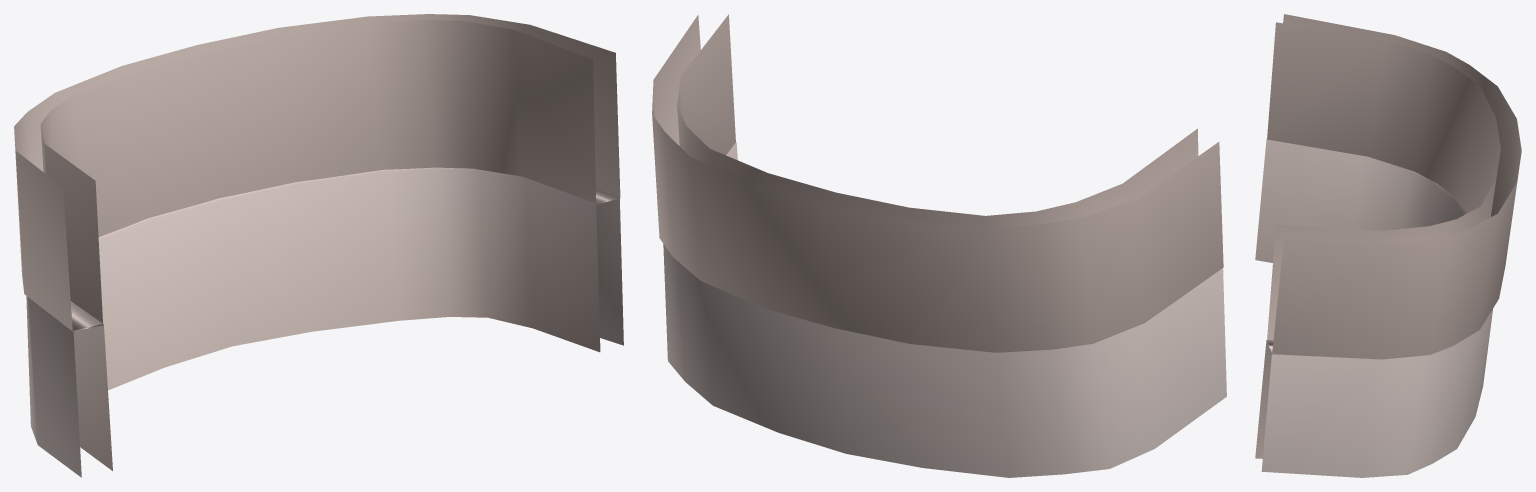
The model's file is sit_test.006.obj.
3 views of the same model, side by side, from view 1: azimuth 30°, elevation 25°; view 2: azimuth 150°, elevation 25°; view 3: azimuth 270°, elevation 25° (orthographic). The views are drawn at different scales.
Visible parts, largest first — view 1: sit_test.006_sit_test.039; view 2: sit_test.006_sit_test.039; view 3: sit_test.006_sit_test.039.
Part boxes in pixels (left/top/right/bottom): sit_test.006_sit_test.039: left=14, top=14, right=623, bottom=477; sit_test.006_sit_test.039: left=652, top=14, right=1226, bottom=477; sit_test.006_sit_test.039: left=1255, top=14, right=1521, bottom=477.
Size of the model in its own units: 0.0553 by 0.0301 by 0.0277.
